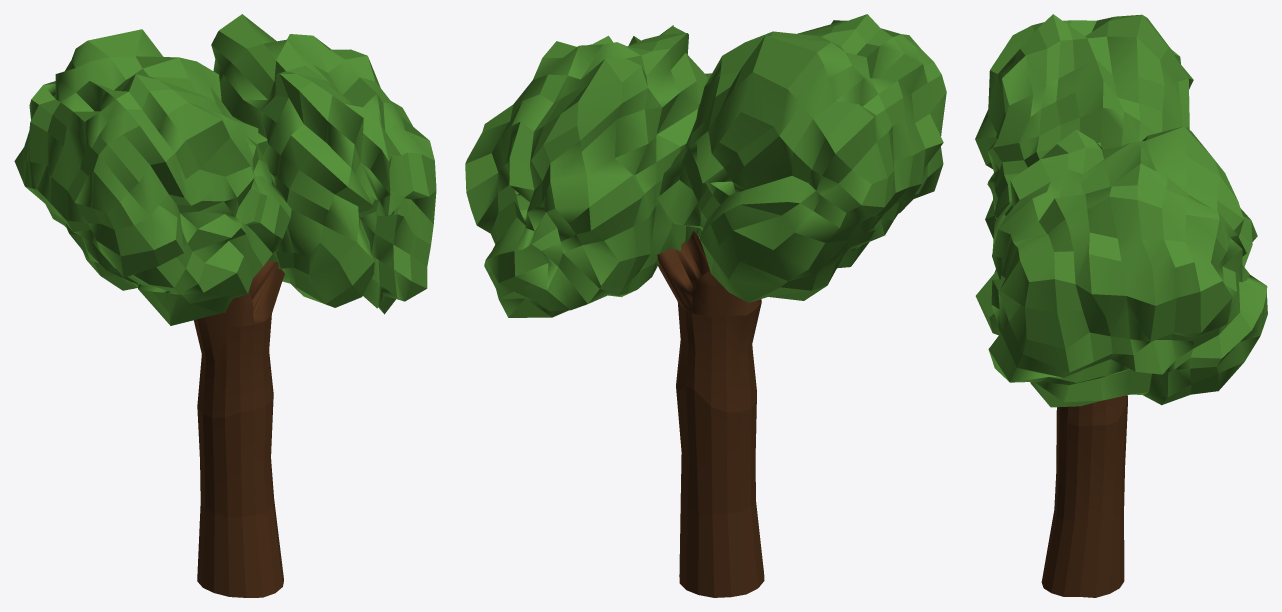
File: Tree3.fbx
The picture shows the model from 3 angles, left to right: view 1: azimuth 30°, elevation 25°; view 2: azimuth 150°, elevation 25°; view 3: azimuth 270°, elevation 25°; orthographic projection. The views are drawn at different scales.
Parts seen in each view (by area): view 1: Tree3; view 2: Tree3; view 3: Tree3.
Boxes of the visible parts, <box> form: Tree3: <box>14,14,436,597</box>; Tree3: <box>465,14,946,597</box>; Tree3: <box>975,14,1267,597</box>.
Bounding box in the file's own units: 555 × 786 × 407.
